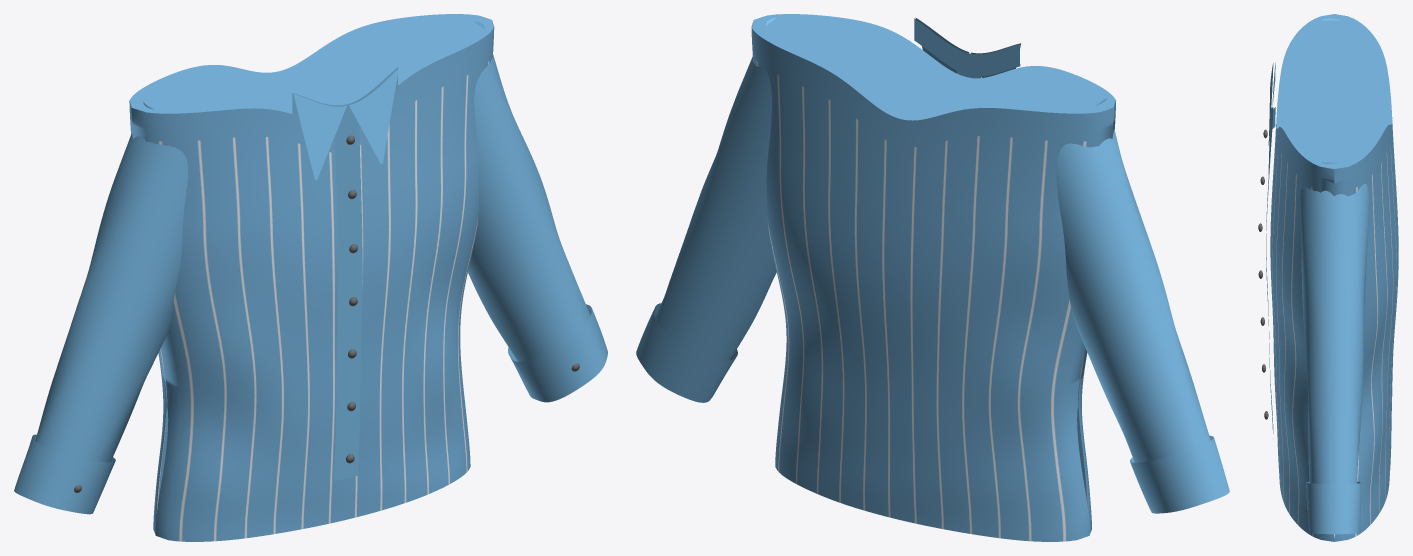
Rendered from garment-surface-v4.glb.
3 renders of one model, left to right at view 1: azimuth 30°, elevation 25°; view 2: azimuth 150°, elevation 25°; view 3: azimuth 270°, elevation 25°, orthographic. The views are drawn at different scales.
Visible parts, largest first — view 1: Front body panel, Sleeve left, Sleeve right, Front placket, Shoulder yoke right, Neckline facing, Shoulder yoke left, Cuff left, Cuff right, Collar leaf left, Collar leaf right, Back body panel; view 2: Back body panel, Sleeve left, Sleeve right, Shoulder yoke right, Neckline facing, Shoulder yoke left, Cuff left, Cuff right, Collar stand front, Front body panel; view 3: Sleeve right, Back body panel, Front body panel, Shoulder yoke left, Neckline facing, Shoulder yoke right, Cuff right, Front placket, Front buttons, Collar leaf right.
Boxes of the visible parts, x1=… form: Front body panel: x1=131, y1=20, x2=494, y2=541; Sleeve left: x1=35, y1=102, x2=188, y2=462; Sleeve right: x1=468, y1=54, x2=590, y2=361; Front placket: x1=334, y1=106, x2=362, y2=480; Shoulder yoke right: x1=334, y1=14, x2=493, y2=84; Neckline facing: x1=228, y1=40, x2=383, y2=113; Shoulder yoke left: x1=130, y1=65, x2=288, y2=113; Cuff left: x1=14, y1=434, x2=115, y2=514; Cuff right: x1=508, y1=304, x2=607, y2=402; Collar leaf left: x1=293, y1=94, x2=346, y2=179; Collar leaf right: x1=349, y1=68, x2=398, y2=163; Back body panel: x1=129, y1=14, x2=486, y2=534; Back body panel: x1=751, y1=21, x2=1113, y2=541; Sleeve left: x1=1056, y1=99, x2=1210, y2=462; Sleeve right: x1=655, y1=56, x2=776, y2=361; Shoulder yoke right: x1=752, y1=14, x2=911, y2=84; Neckline facing: x1=850, y1=42, x2=1016, y2=120; Shoulder yoke left: x1=956, y1=66, x2=1115, y2=113; Cuff left: x1=1130, y1=435, x2=1229, y2=513; Cuff right: x1=636, y1=303, x2=737, y2=402; Collar stand front: x1=914, y1=18, x2=1020, y2=76; Front body panel: x1=759, y1=14, x2=1115, y2=533; Sleeve right: x1=1300, y1=162, x2=1369, y2=483; Back body panel: x1=1334, y1=14, x2=1398, y2=541; Front body panel: x1=1270, y1=14, x2=1334, y2=541; Shoulder yoke left: x1=1279, y1=14, x2=1388, y2=81; Neckline facing: x1=1276, y1=79, x2=1392, y2=128; Shoulder yoke right: x1=1281, y1=125, x2=1388, y2=168; Cuff right: x1=1306, y1=482, x2=1360, y2=534; Front placket: x1=1266, y1=151, x2=1273, y2=438; Front buttons: x1=1258, y1=129, x2=1268, y2=419; Collar leaf right: x1=1268, y1=107, x2=1273, y2=175.
Size of the model in its own units: 0.8258 by 0.5911 by 0.1926.
Materials: 7 (1 with a texture image).
